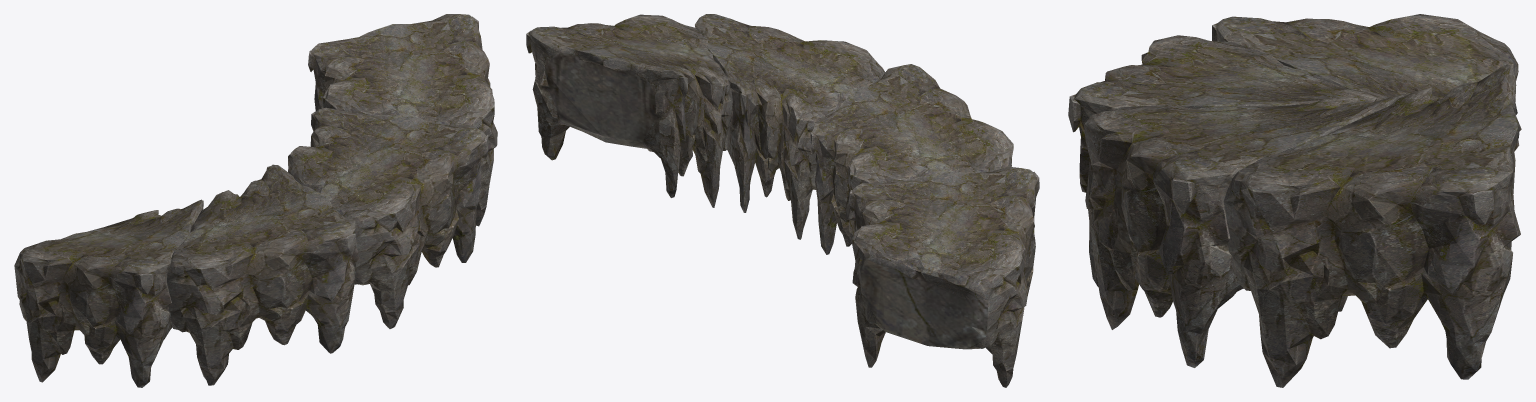
File: bg_anh_mirrorv_dstair01_sm_cwk.FBX
3 views of the same model, side by side, from view 1: azimuth 30°, elevation 25°; view 2: azimuth 150°, elevation 25°; view 3: azimuth 270°, elevation 25° (orthographic). The views are drawn at different scales.
Visible parts, largest first — view 1: bg_anh_mirrorv_dstair01_sm_cwk; view 2: bg_anh_mirrorv_dstair01_sm_cwk; view 3: bg_anh_mirrorv_dstair01_sm_cwk.
Part boxes in pixels (left/top/right/bottom): bg_anh_mirrorv_dstair01_sm_cwk: left=14, top=14, right=497, bottom=387; bg_anh_mirrorv_dstair01_sm_cwk: left=526, top=14, right=1039, bottom=387; bg_anh_mirrorv_dstair01_sm_cwk: left=1068, top=14, right=1521, bottom=387.
Bounding box in the file's own units: 1492 × 763 × 768.
